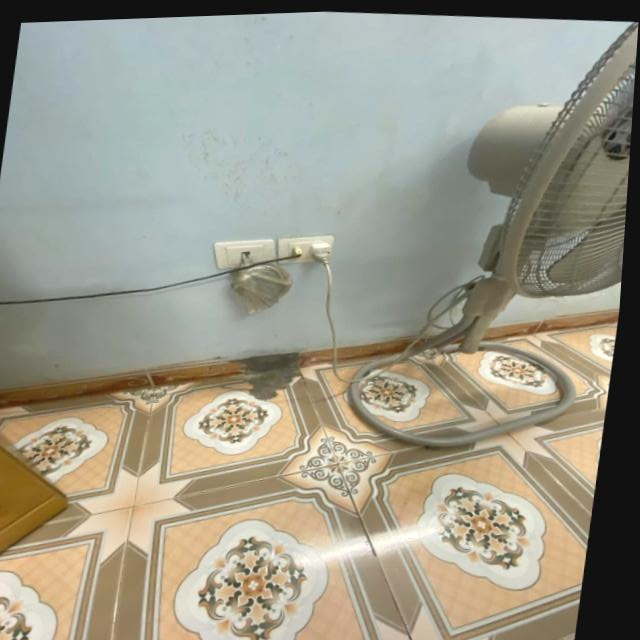outlet: (211, 234, 280, 273), (275, 230, 337, 268)
